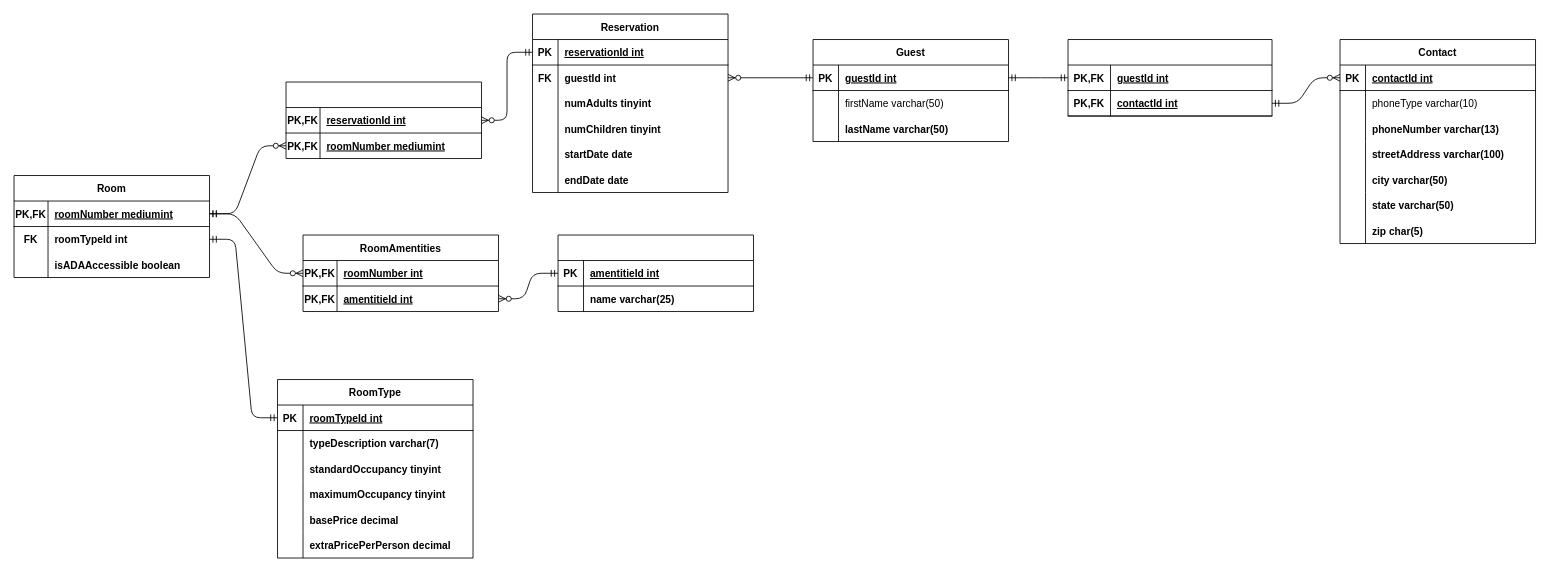
This 1550x572 diagram has some shape labels left out. The shapes that lost their labels are listed below. From the top down, each one's box as (x1, y1, x2, y2) in pixels, then its label:
(1067, 39, 1272, 116): ContactGuest
(285, 81, 482, 159): RoomReservation
(557, 234, 754, 312): Amentities
